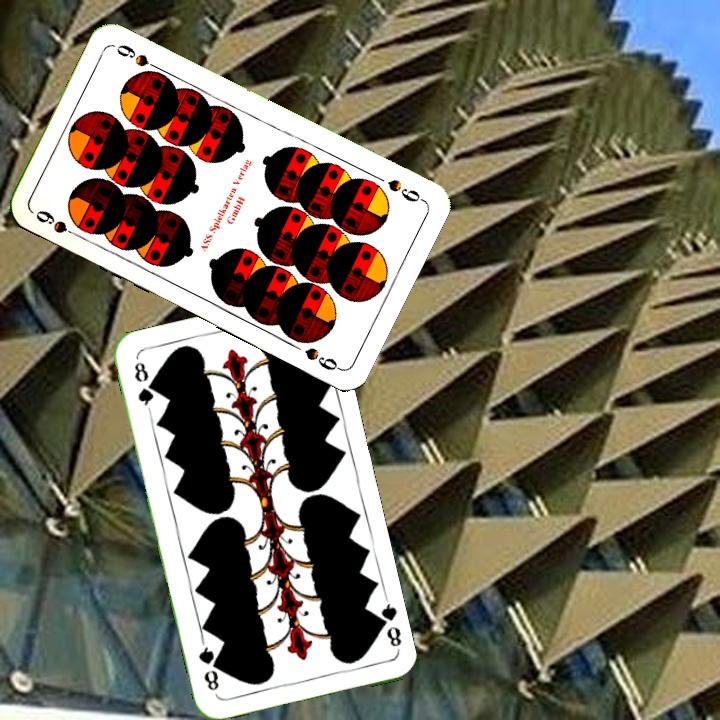G8: (371, 595, 404, 653), (130, 358, 156, 414)
S9: (31, 206, 84, 242), (383, 175, 427, 205)
